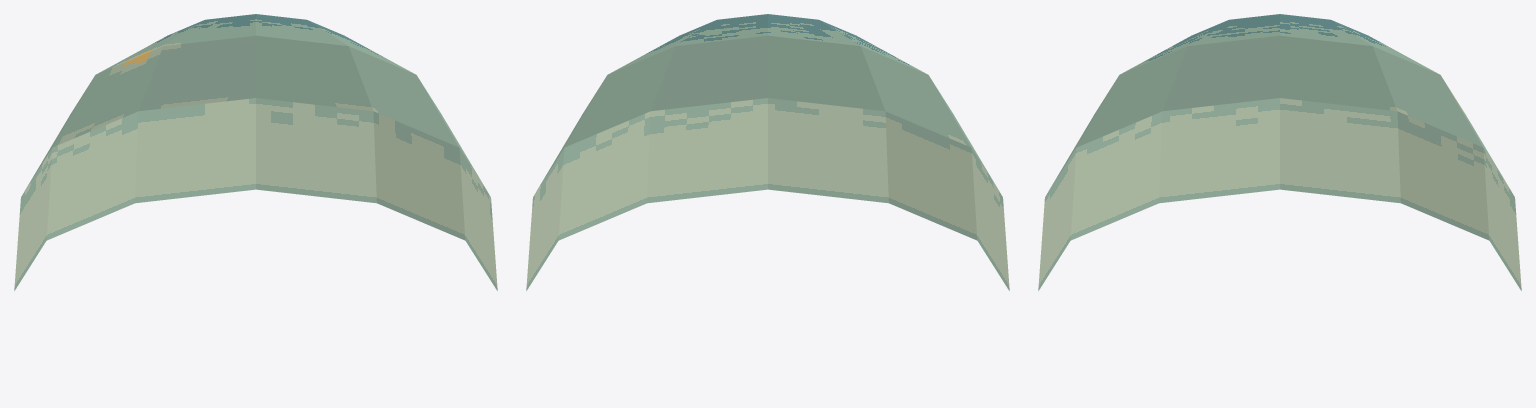
The model's file is land.sky.glb.
The picture shows the model from 3 angles, left to right: view 1: azimuth 30°, elevation 25°; view 2: azimuth 150°, elevation 25°; view 3: azimuth 270°, elevation 25°; orthographic projection.
Parts seen in each view (by area): view 1: kit_shell_sky; view 2: kit_shell_sky; view 3: kit_shell_sky.
Part boxes in pixels (x1,y1,x2,y2): kit_shell_sky: [14, 14, 497, 290]; kit_shell_sky: [526, 14, 1009, 290]; kit_shell_sky: [1038, 14, 1521, 290].
Size of the model in its own units: 791 by 460 by 791.
1 material, 1 textured.
